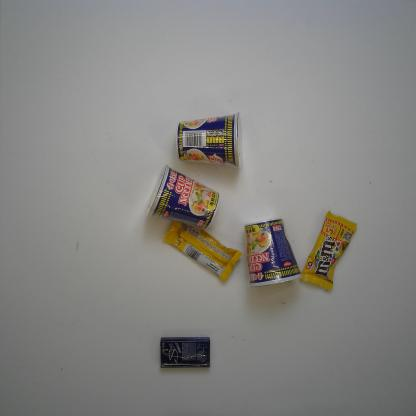Chocolate: (163, 215, 242, 282), (298, 209, 358, 291)
Gum: (160, 337, 210, 368)
Instant Noodles: (145, 164, 220, 229), (244, 217, 303, 288), (175, 111, 244, 169)
